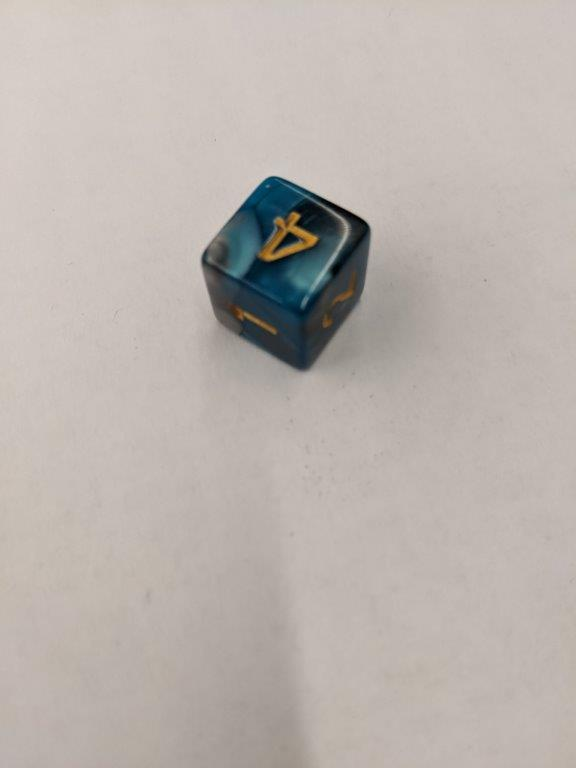d6-4: (204, 173, 370, 368)
